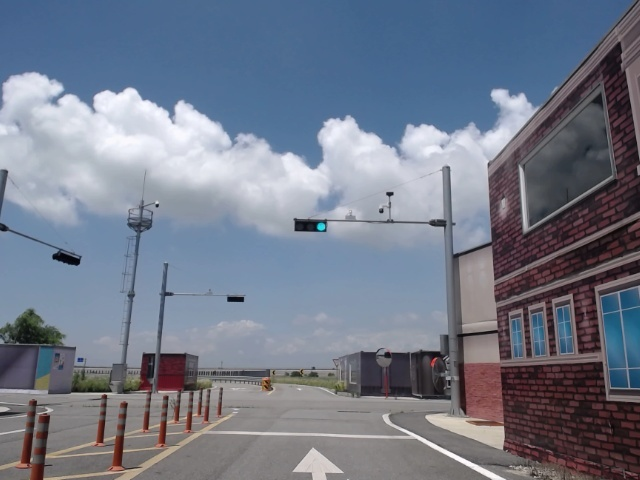green_3: (295, 221, 326, 231)
